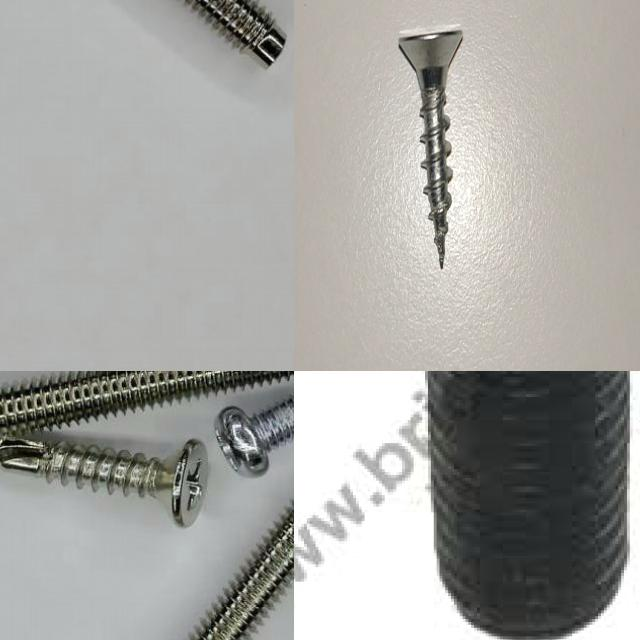Screw: (417, 371, 637, 640), (0, 371, 294, 436), (0, 438, 208, 527), (399, 27, 462, 268), (191, 504, 294, 640), (215, 395, 294, 477)
